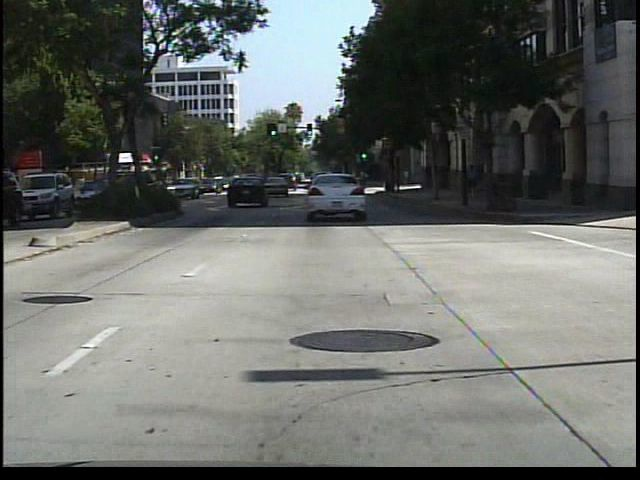person: (463, 161, 482, 205)
